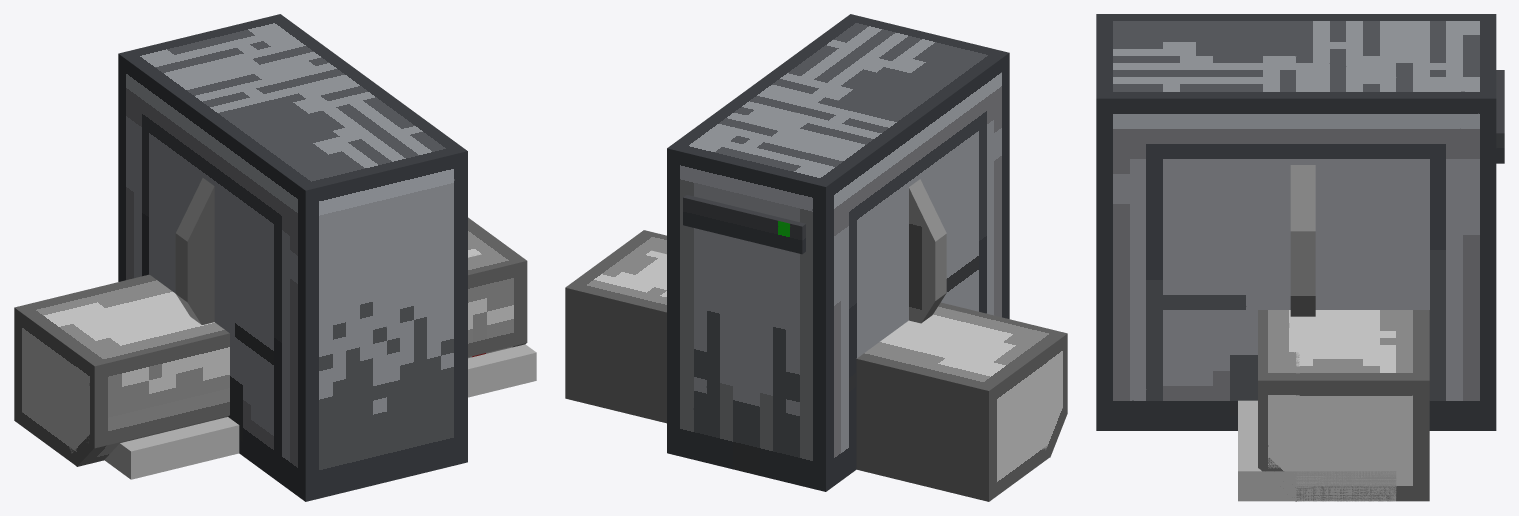
The model's file is Conditioner.fbx.
3 renders of one model, left to right at view 1: azimuth 30°, elevation 25°; view 2: azimuth 150°, elevation 25°; view 3: azimuth 270°, elevation 25°, orthographic. The views are drawn at different scales.
Parts seen in each view (by area): view 1: cube, cube_41, cube_39, cube_2, circle, cube_40; view 2: cube, cube_39, circle, cube_41, cube_1, cube_40; view 3: cube, cube_39, cube_2, cube_41, circle, cube_40, cube_1.
Part boxes in pixels (bbox=[...]): cube: bbox=[118, 14, 467, 501]; cube_41: bbox=[75, 247, 527, 448]; cube_39: bbox=[14, 217, 508, 465]; cube_2: bbox=[104, 344, 536, 479]; circle: bbox=[175, 178, 214, 324]; cube_40: bbox=[46, 343, 526, 466]; cube: bbox=[667, 14, 1009, 491]; cube_39: bbox=[565, 244, 1050, 501]; circle: bbox=[909, 179, 946, 323]; cube_41: bbox=[625, 230, 1067, 412]; cube_1: bbox=[683, 195, 805, 254]; cube_40: bbox=[1020, 381, 1067, 457]; cube: bbox=[1096, 14, 1496, 430]; cube_39: bbox=[1296, 310, 1429, 501]; cube_2: bbox=[1238, 400, 1396, 501]; cube_41: bbox=[1258, 310, 1299, 468]; circle: bbox=[1290, 165, 1315, 316]; cube_40: bbox=[1258, 408, 1360, 501]; cube_1: bbox=[1496, 70, 1504, 163].
Size of the model in its own units: 100 by 68.87 by 76.56.
